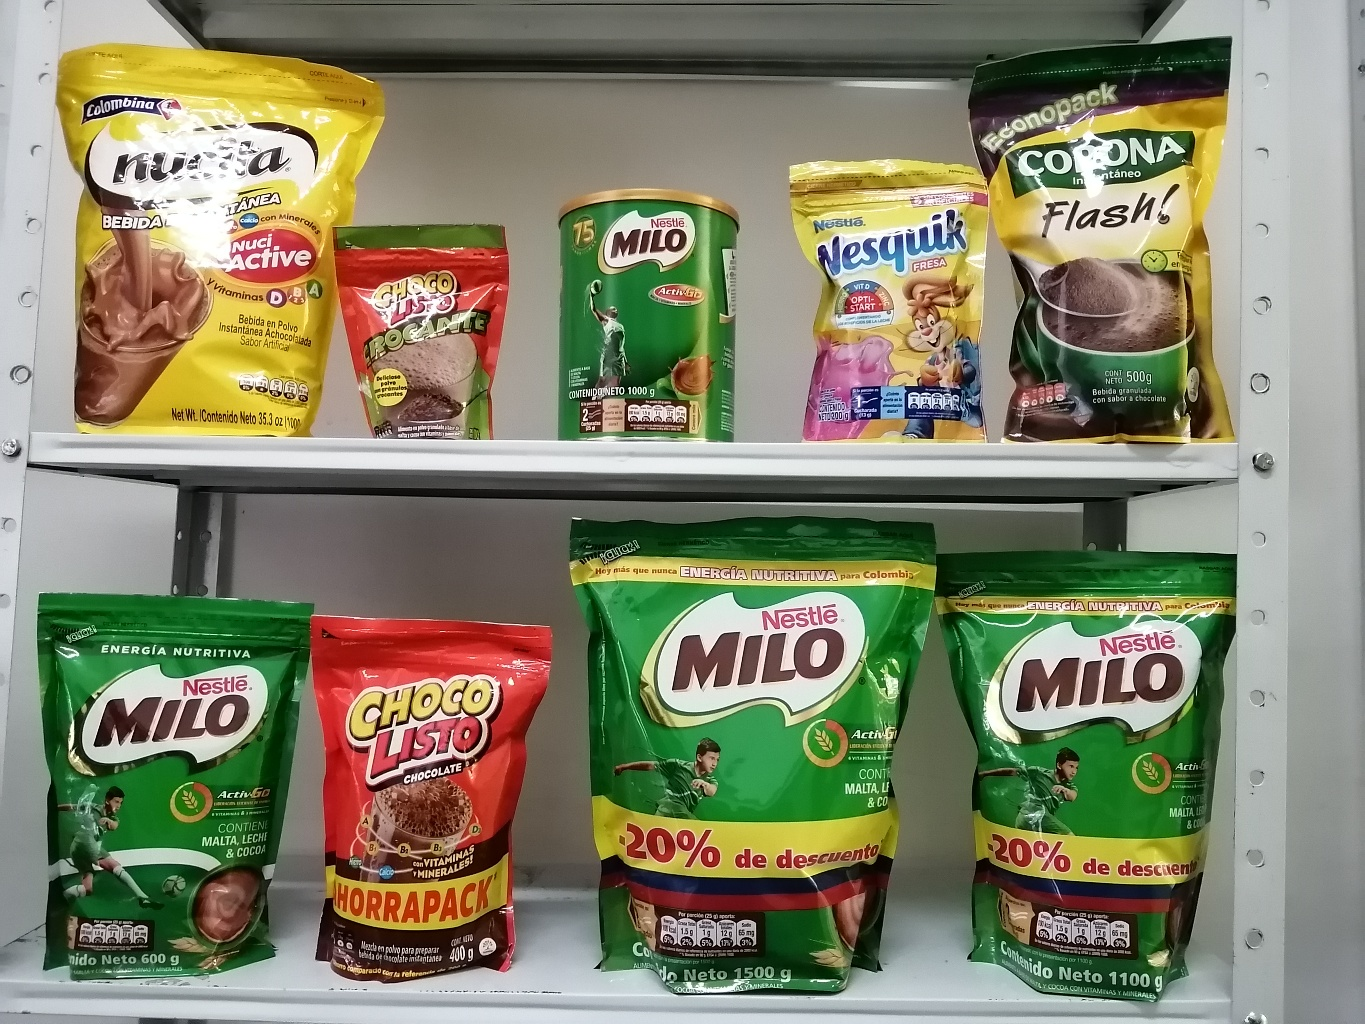COL0170102DYP10000: (323, 211, 507, 435)
COL0170103DYP40000: (314, 615, 580, 979)
COL0170305DYP20000: (779, 142, 993, 438)
